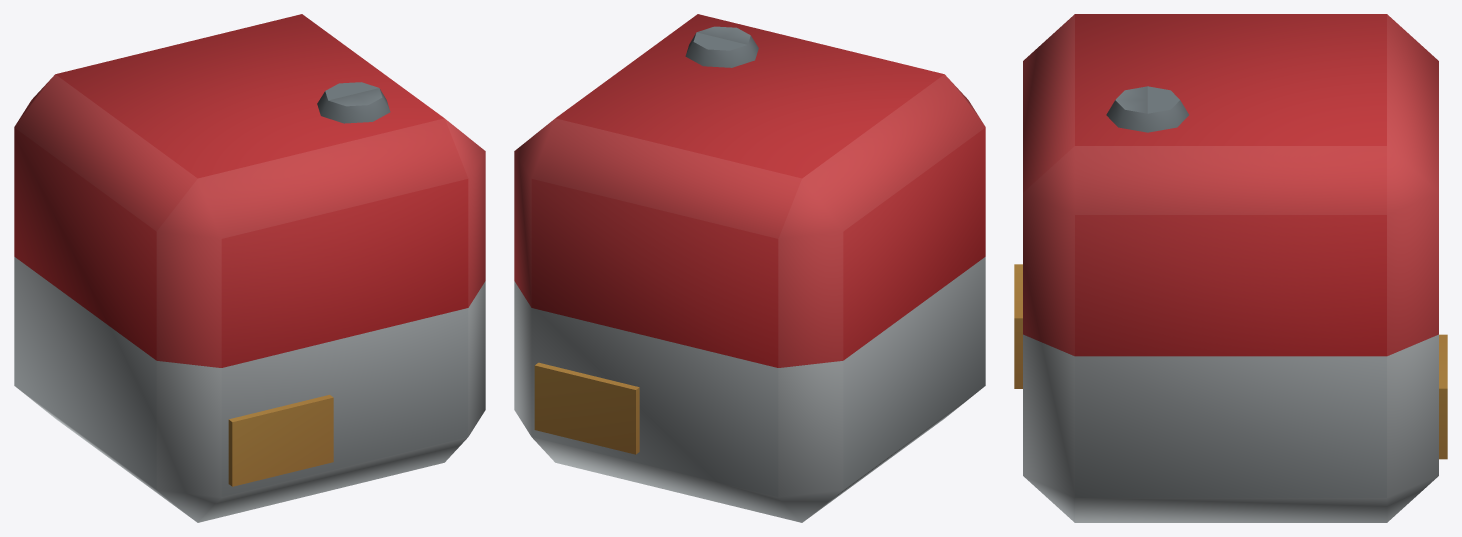
File: space-cargo-a.glb
3 views of the same model, side by side, from view 1: azimuth 30°, elevation 25°; view 2: azimuth 150°, elevation 25°; view 3: azimuth 270°, elevation 25° (orthographic). The views are drawn at different scales.
Parts seen in each view (by area): view 1: cargo_A; view 2: cargo_A; view 3: cargo_A.
Boxes of the visible parts, box(x1,y1,x2,y2) form: cargo_A: box(14, 14, 485, 522); cargo_A: box(514, 14, 985, 522); cargo_A: box(1014, 14, 1447, 522).
Size of the model in its own units: 0.5 by 0.52 by 0.5205.
